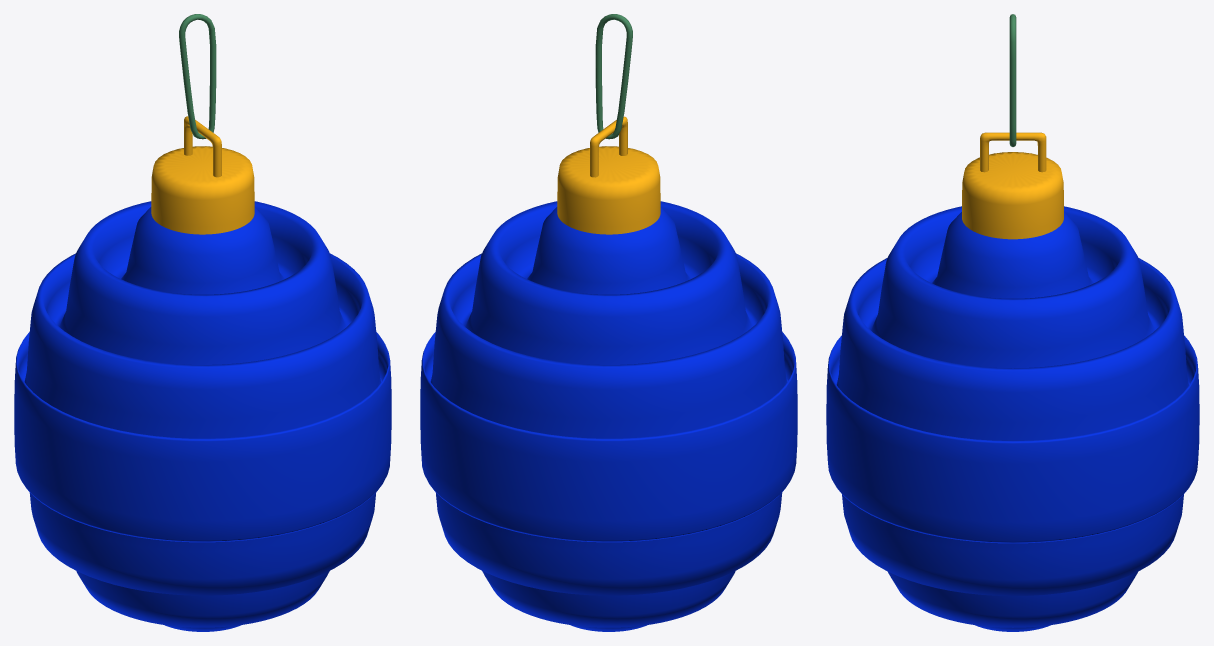
Rendered from ornaments5.fbx.
The picture shows the model from 3 angles, left to right: view 1: azimuth 30°, elevation 25°; view 2: azimuth 150°, elevation 25°; view 3: azimuth 270°, elevation 25°; orthographic projection.
Parts seen in each view (by area): view 1: Sphere.004; view 2: Sphere.004; view 3: Sphere.004.
Part boxes in pixels (<box>): Sphere.004: <box>14,14,391,631</box>; Sphere.004: <box>420,14,797,631</box>; Sphere.004: <box>826,14,1199,631</box>.
Bounding box in the file's own units: 19.86 × 34.58 × 19.86.
